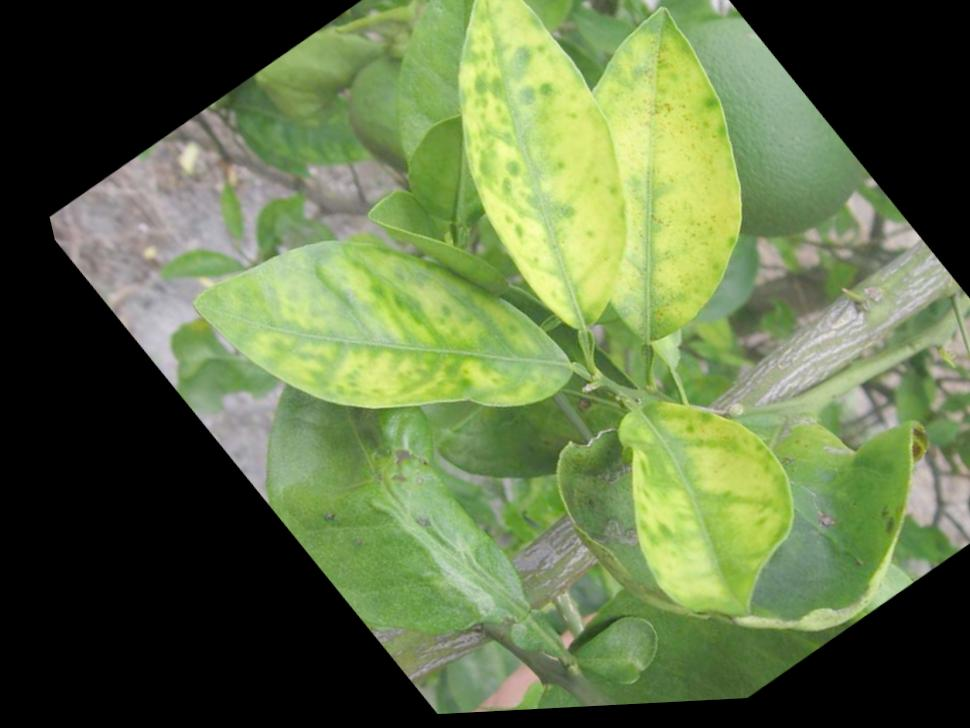Citrus Greening: (141, 143, 590, 532), (440, 0, 854, 366), (333, 0, 715, 349), (526, 355, 827, 642)
